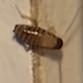cockroach: (13, 23, 64, 54)
